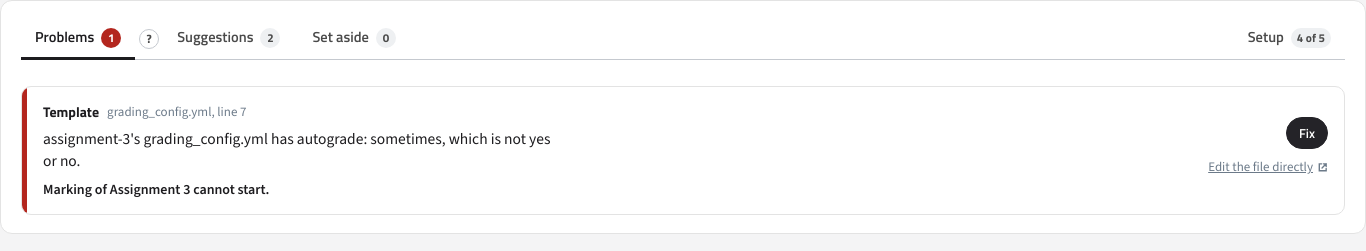
Test: a read-only viewer › the Set aside tab says what it holds behind its ?, the body only its rows
The width and height of the screenshot is (1366, 251).
Click the tab "Set aside 0". click: (354, 39)
box: [298,19,410,60]
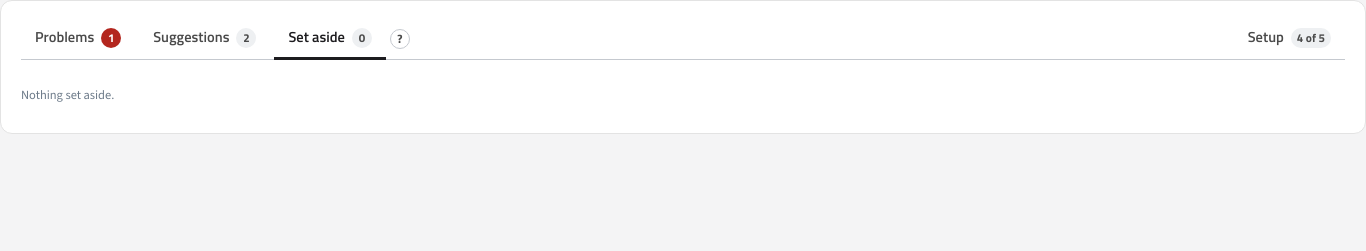
Expected: the panel with id "dash-panel-aside" reads "Nothing set aside.", [21,86,114,103]
